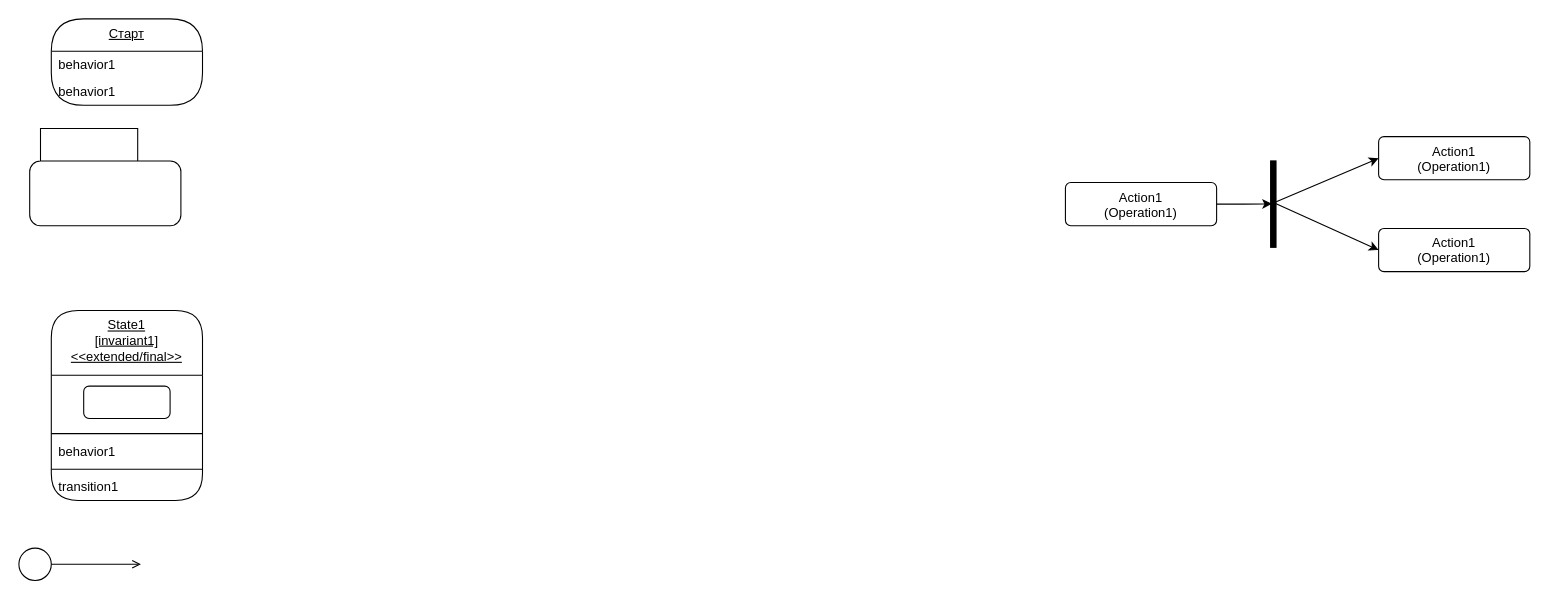
Some shapes in this 1549 by 599 pixel diagram are drawn without their labels. Here are the shapes that lost their labels. From the top down, the centre of each, then its label:
At (105,176): "State1".
At (126,401): "State2".
